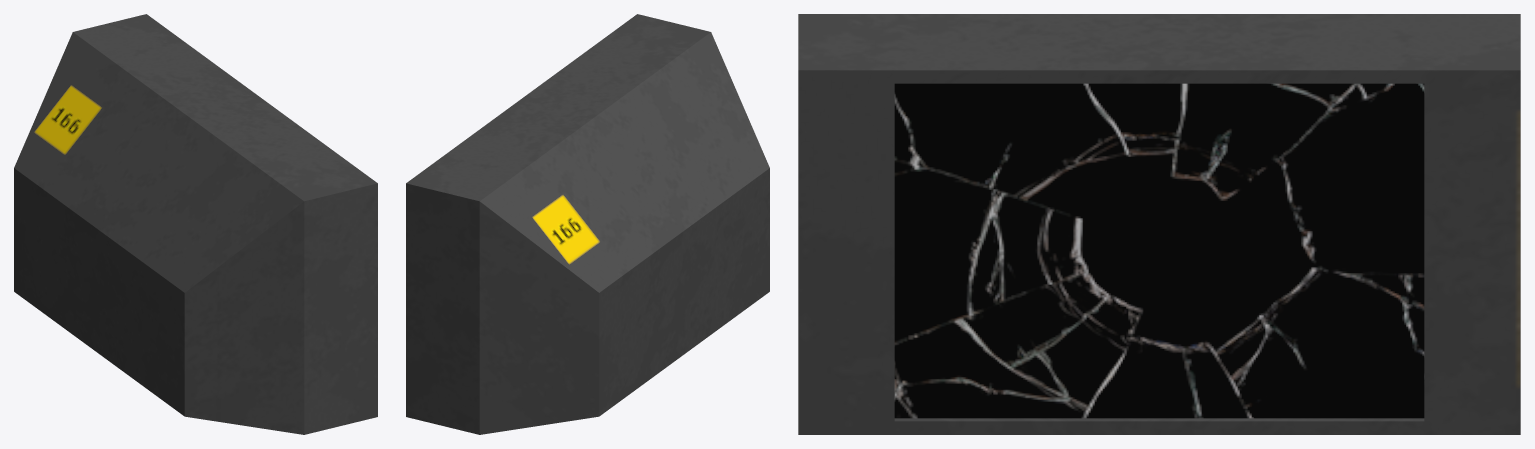
3 views of the same model, side by side, from view 1: azimuth 30°, elevation 25°; view 2: azimuth 150°, elevation 25°; view 3: azimuth 270°, elevation 25° (orthographic). The views are drawn at different scales.
Visible parts, largest first — view 1: Cube; view 2: Cube; view 3: Cube.
Part boxes in pixels (left/top/right/bottom): Cube: left=14, top=14, right=377, bottom=434; Cube: left=406, top=14, right=769, bottom=434; Cube: left=798, top=14, right=1520, bottom=434.
Bounding box in the file's own units: 180 × 247 × 444.
